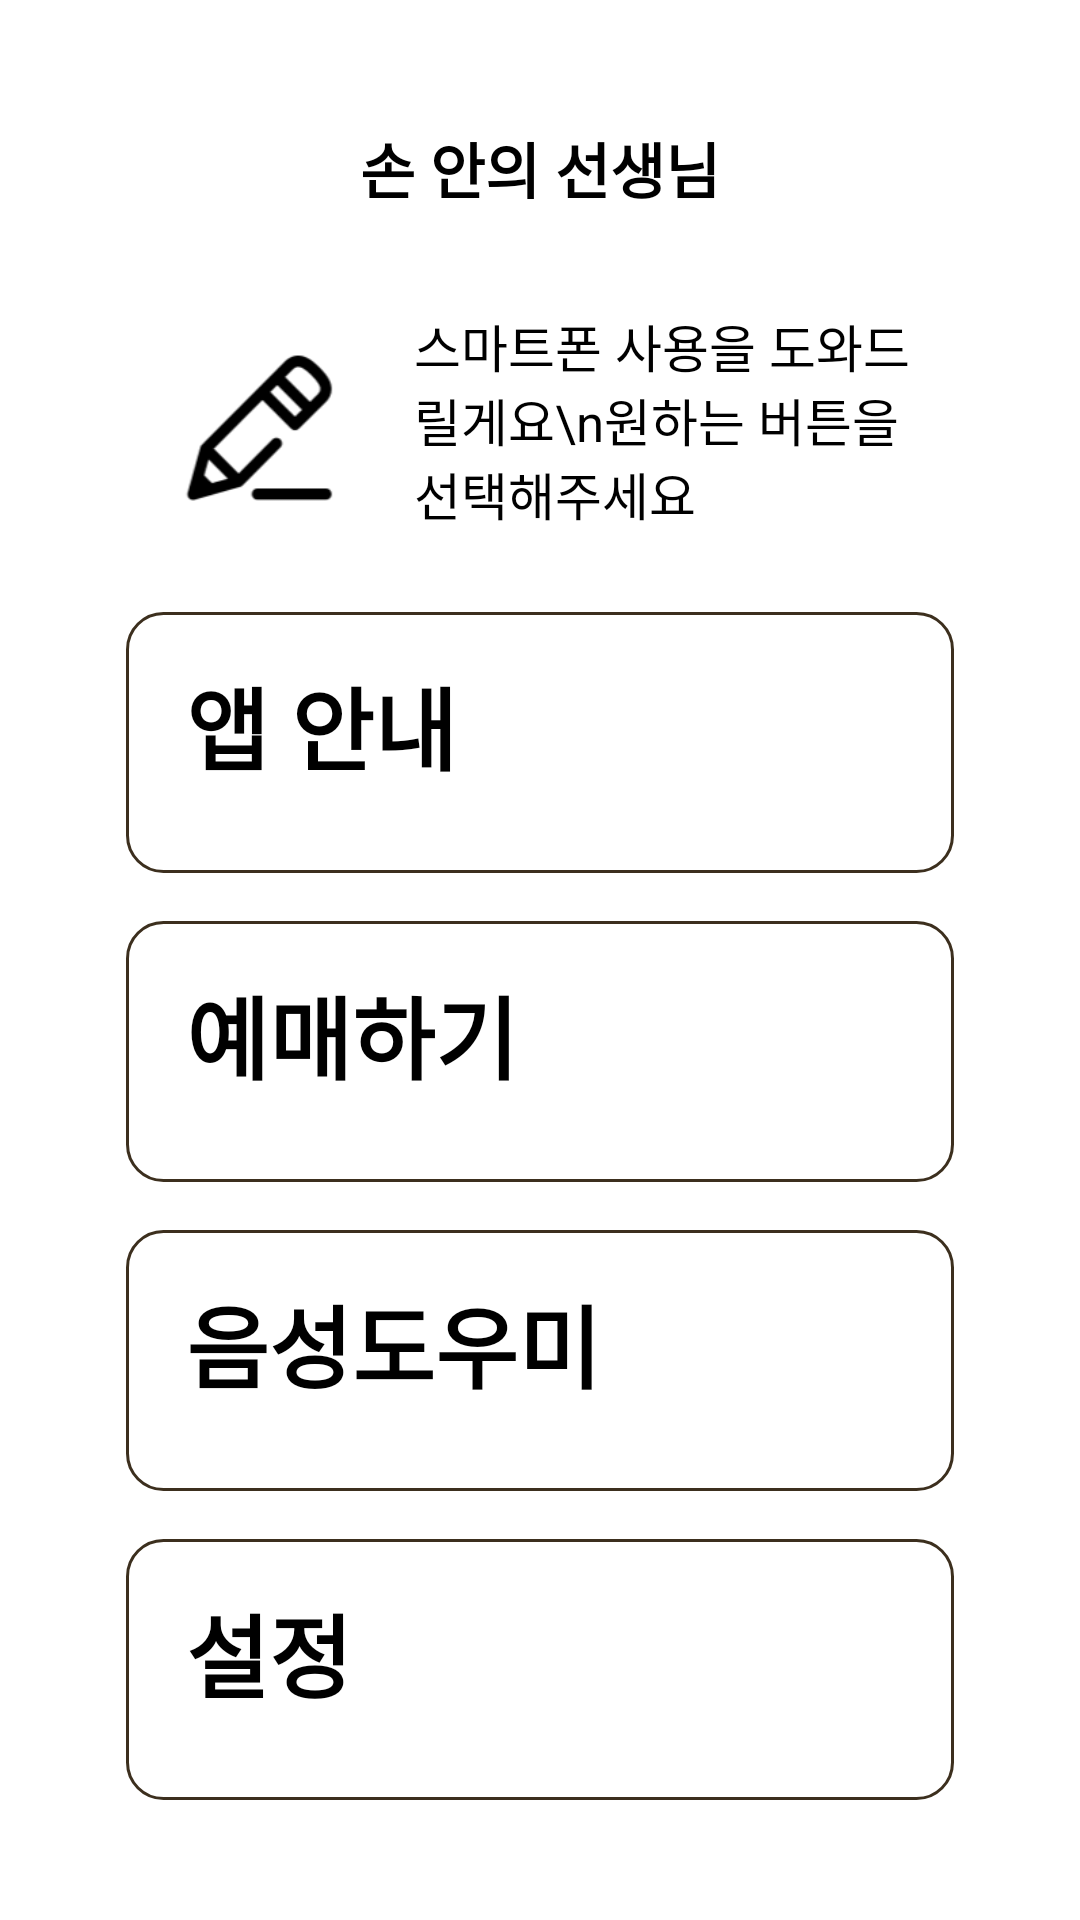

Screen size 1080px×1920px. Icon name, then its center in pixels as (x=x, y=y):
연필 아이콘: (x=259, y=428)
